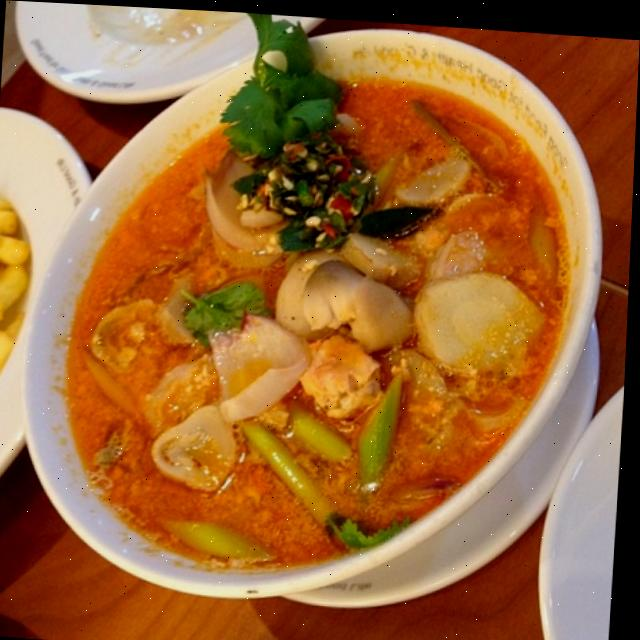汤锅炖物: (20, 7, 584, 614)
